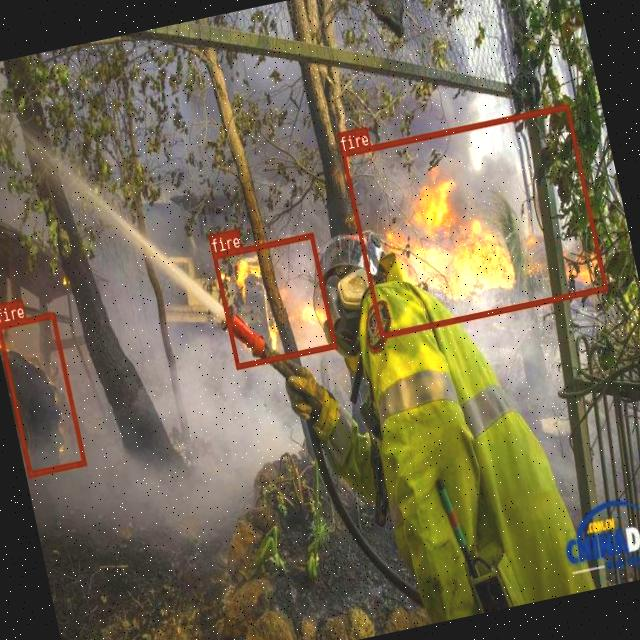fire: (340, 104, 606, 338), (212, 231, 336, 368), (0, 311, 84, 476)
